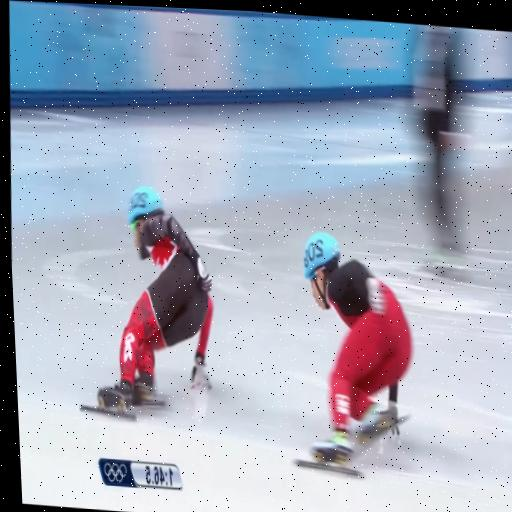Skater: (97, 187, 212, 410), (303, 233, 411, 464)
